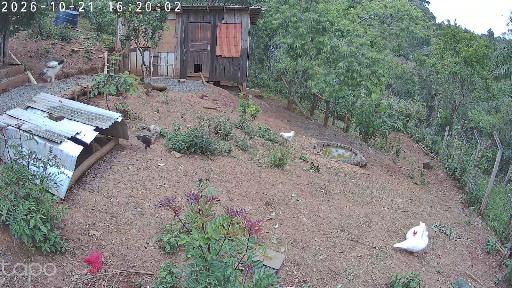frango: (38, 58, 66, 90), (136, 135, 157, 155), (146, 124, 161, 137), (279, 131, 295, 142)
pato: (393, 232, 429, 255), (406, 222, 423, 237)
